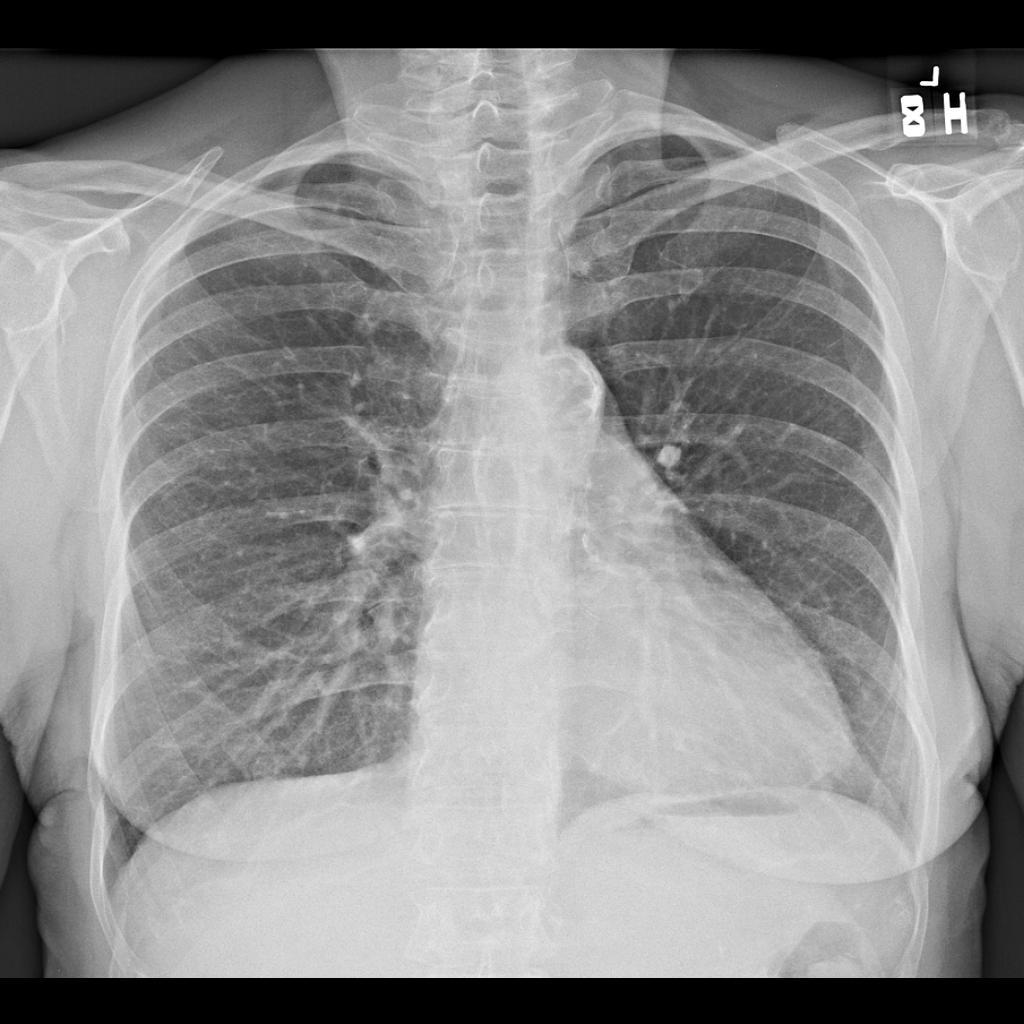Nodule: (667, 446, 673, 468)
